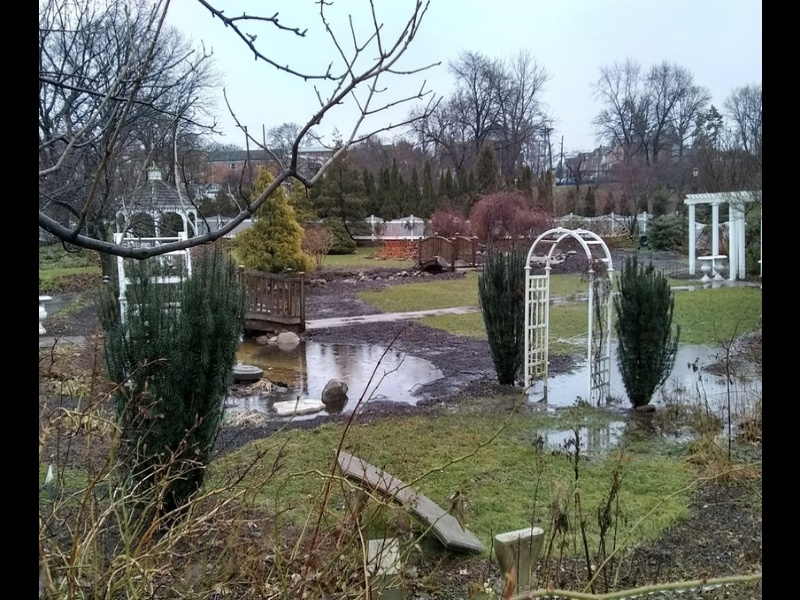heron: (434, 252, 455, 276)
